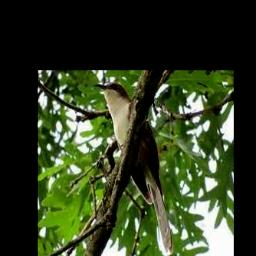Cuckoo: (94, 83, 174, 253)
